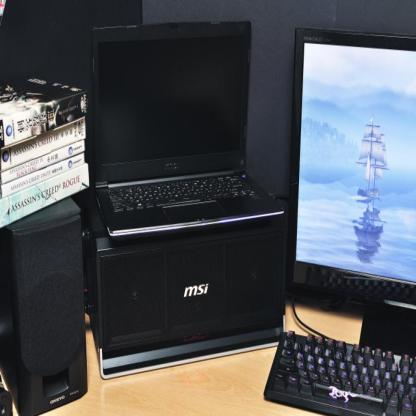board: (92, 17, 286, 241)
